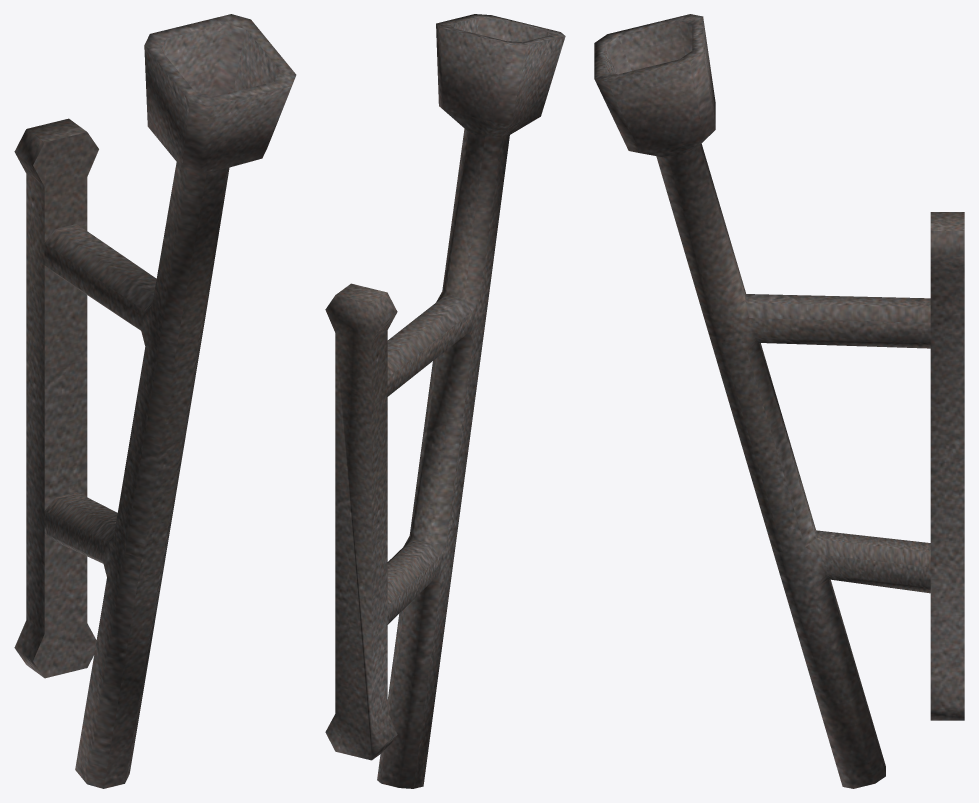
File: crypt_torch.FBX
3 renders of one model, left to right at view 1: azimuth 30°, elevation 25°; view 2: azimuth 150°, elevation 25°; view 3: azimuth 270°, elevation 25°, orthographic. The views are drawn at different scales.
Visible parts, largest first — view 1: Box02; view 2: Box02; view 3: Box02.
Part boxes in pixels (bbox=[...]): Box02: bbox=[14, 14, 296, 788]; Box02: bbox=[325, 14, 565, 788]; Box02: bbox=[594, 14, 964, 788].
Size of the model in its own units: 10 by 32.88 by 73.29.
